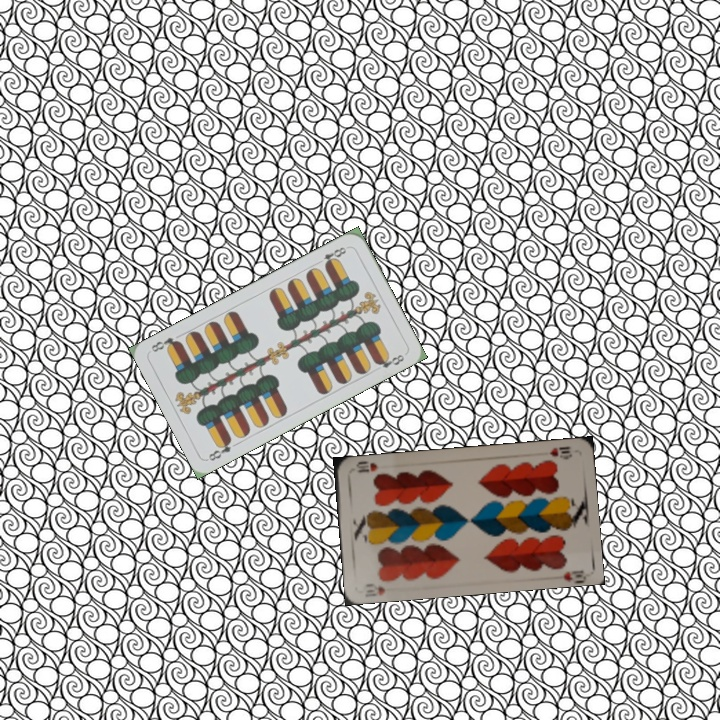E8: (204, 434, 234, 463), (319, 243, 351, 269)
H10: (545, 442, 574, 461), (361, 579, 388, 599)
